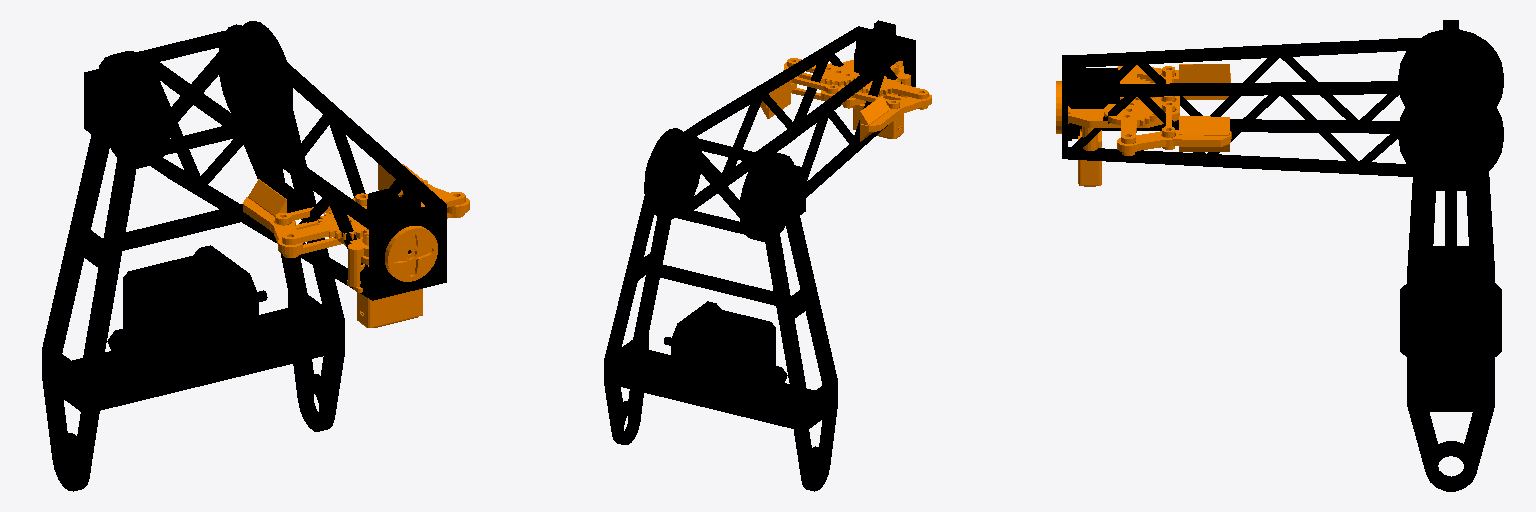
The robot description file, URDF, robot "manipulator_assembly_to_URDF":
<?xml version="1.0" encoding="utf-8"?>
<!-- This URDF was automatically created by SolidWorks to URDF Exporter! Originally created by [author] ([email redacted]) 
     Commit Version: 1.6.0-4-g7f85cfe  Build Version: 1.6.7995.38578
     For more information, please see http://wiki.ros.org/sw_urdf_exporter -->
<robot
  name="manipulator_assembly_to_URDF">
  <link
    name="base_link">
    <inertial>
      <origin
        xyz="0.078917 0.036505 0.00014694"
        rpy="0 0 0" />
      <mass
        value="0.80306" />
      <inertia
        ixx="0.00058252"
        ixy="5.9124E-06"
        ixz="2.2276E-06"
        iyy="0.0012075"
        iyz="3.7681E-07"
        izz="0.0015885" />
    </inertial>
    <visual>
      <origin
        xyz="0 0 0"
        rpy="0 0 0" />
      <geometry>
        <mesh
          filename="package://manipulator_assembly_to_URDF/meshes/base_link.STL" />
      </geometry>
      <material
        name="">
        <color
          rgba="1 0.54902 0 1" />
      </material>
    </visual>
    <collision>
      <origin
        xyz="0 0 0"
        rpy="0 0 0" />
      <geometry>
        <mesh
          filename="package://manipulator_assembly_to_URDF/meshes/base_link.STL" />
      </geometry>
    </collision>
  </link>
  <link
    name="link_1">
    <inertial>
      <origin
        xyz="0.0058496 4.5029E-05 0.029826"
        rpy="0 0 0" />
      <mass
        value="1.2963" />
      <inertia
        ixx="0.00036464"
        ixy="6.1082E-07"
        ixz="5.4471E-06"
        iyy="0.00057711"
        iyz="4.4643E-07"
        izz="0.0006064" />
    </inertial>
    <visual>
      <origin
        xyz="0 0 0"
        rpy="0 0 0" />
      <geometry>
        <mesh
          filename="package://manipulator_assembly_to_URDF/meshes/link_1.STL" />
      </geometry>
      <material
        name="">
        <color
          rgba="0.64706 0.61961 0.58824 1" />
      </material>
    </visual>
    <collision>
      <origin
        xyz="0 0 0"
        rpy="0 0 0" />
      <geometry>
        <mesh
          filename="package://manipulator_assembly_to_URDF/meshes/link_1.STL" />
      </geometry>
    </collision>
  </link>
  <joint
    name="joint_1"
    type="continuous">
    <origin
      xyz="0 0 0"
      rpy="0 0 0" />
    <parent
      link="base_link" />
    <child
      link="link_1" />
    <axis
      xyz="0 0 1" />
  </joint>
  <link
    name="link_2">
    <inertial>
      <origin
        xyz="0.062469 -0.0002125 -0.0043839"
        rpy="0 0 0" />
      <mass
        value="0.65668" />
      <inertia
        ixx="0.00030256"
        ixy="-4.5238E-08"
        ixz="4.7027E-05"
        iyy="0.00050509"
        iyz="-5.3372E-08"
        izz="0.00039508" />
    </inertial>
    <visual>
      <origin
        xyz="0 0 0"
        rpy="0 0 0" />
      <geometry>
        <mesh
          filename="package://manipulator_assembly_to_URDF/meshes/link_2.STL" />
      </geometry>
      <material
        name="">
        <color
          rgba="0 0 0 1" />
      </material>
    </visual>
    <collision>
      <origin
        xyz="0 0 0"
        rpy="0 0 0" />
      <geometry>
        <mesh
          filename="package://manipulator_assembly_to_URDF/meshes/link_2.STL" />
      </geometry>
    </collision>
  </link>
  <joint
    name="joint_2"
    type="continuous">
    <origin
      xyz="-0.00025 -0.0015763 0.030821"
      rpy="-3.1416 -1.5702 0" />
    <parent
      link="link_1" />
    <child
      link="link_2" />
    <axis
      xyz="0 0 1" />
  </joint>
  <link
    name="link_3">
    <inertial>
      <origin
        xyz="0.059564 -0.00080149 -0.0015856"
        rpy="0 0 0" />
      <mass
        value="0.090555" />
      <inertia
        ixx="8.4245E-05"
        ixy="8.3873E-07"
        ixz="-6.3077E-06"
        iyy="0.00043561"
        iyz="-6.7312E-07"
        izz="0.00039329" />
    </inertial>
    <visual>
      <origin
        xyz="0 0 0"
        rpy="0 0 0" />
      <geometry>
        <mesh
          filename="package://manipulator_assembly_to_URDF/meshes/link_3.STL" />
      </geometry>
      <material
        name="">
        <color
          rgba="0 0 0 1" />
      </material>
    </visual>
    <collision>
      <origin
        xyz="0 0 0"
        rpy="0 0 0" />
      <geometry>
        <mesh
          filename="package://manipulator_assembly_to_URDF/meshes/link_3.STL" />
      </geometry>
    </collision>
  </link>
  <joint
    name="joint_3"
    type="continuous">
    <origin
      xyz="0.17296 0 0.00014863"
      rpy="0.00058608 0 1.5708" />
    <parent
      link="link_2" />
    <child
      link="link_3" />
    <axis
      xyz="0 0 1" />
  </joint>
  <link
    name="gripper">
    <inertial>
      <origin
        xyz="-0.0013753 0.011708 0.021046"
        rpy="0 0 0" />
      <mass
        value="0.022996" />
      <inertia
        ixx="4.5836E-06"
        ixy="-3.611E-09"
        ixz="-4.4626E-09"
        iyy="5.9744E-06"
        iyz="8.7239E-08"
        izz="3.2255E-06" />
    </inertial>
    <visual>
      <origin
        xyz="0 0 0"
        rpy="0 0 0" />
      <geometry>
        <mesh
          filename="package://manipulator_assembly_to_URDF/meshes/gripper.STL" />
      </geometry>
      <material
        name="">
        <color
          rgba="1 0.54902 0 1" />
      </material>
    </visual>
    <collision>
      <origin
        xyz="0 0 0"
        rpy="0 0 0" />
      <geometry>
        <mesh
          filename="package://manipulator_assembly_to_URDF/meshes/gripper.STL" />
      </geometry>
    </collision>
  </link>
  <joint
    name="joint_4"
    type="continuous">
    <origin
      xyz="0.2032 0 0"
      rpy="0 -1.5708 0" />
    <parent
      link="link_3" />
    <child
      link="gripper" />
    <axis
      xyz="0 0 1" />
  </joint>
  <link
    name="left_finger">
    <inertial>
      <origin
        xyz="0.00085621 -0.0093356 -0.017664"
        rpy="0 0 0" />
      <mass
        value="0.006945" />
      <inertia
        ixx="1.3994E-06"
        ixy="9.5056E-14"
        ixz="-4.0439E-14"
        iyy="9.693E-07"
        iyz="-1.2261E-08"
        izz="5.2145E-07" />
    </inertial>
    <visual>
      <origin
        xyz="0 0 0"
        rpy="0 0 0" />
      <geometry>
        <mesh
          filename="package://manipulator_assembly_to_URDF/meshes/left_finger.STL" />
      </geometry>
      <material
        name="">
        <color
          rgba="1 0.54902 0 1" />
      </material>
    </visual>
    <collision>
      <origin
        xyz="0 0 0"
        rpy="0 0 0" />
      <geometry>
        <mesh
          filename="package://manipulator_assembly_to_URDF/meshes/left_finger.STL" />
      </geometry>
    </collision>
  </link>
  <joint
    name="lf_joint"
    type="prismatic">
    <origin
      xyz="0.032331 0 0.076026"
      rpy="0.35084 0 -1.5708" />
    <parent
      link="gripper" />
    <child
      link="left_finger" />
    <axis
      xyz="0 0 -1" />
    <limit
      lower="0"
      upper="0"
      effort="0"
      velocity="0" />
  </joint>
  <link
    name="right_finger">
    <inertial>
      <origin
        xyz="0.00086131 0.0093423 -0.017746"
        rpy="0 0 0" />
      <mass
        value="0.0069584" />
      <inertia
        ixx="1.3949E-06"
        ixy="-9.6372E-14"
        ixz="-3.7094E-14"
        iyy="9.6462E-07"
        iyz="1.1877E-08"
        izz="5.2161E-07" />
    </inertial>
    <visual>
      <origin
        xyz="0 0 0"
        rpy="0 0 0" />
      <geometry>
        <mesh
          filename="package://manipulator_assembly_to_URDF/meshes/right_finger.STL" />
      </geometry>
      <material
        name="">
        <color
          rgba="1 0.54902 0 1" />
      </material>
    </visual>
    <collision>
      <origin
        xyz="0 0 0"
        rpy="0 0 0" />
      <geometry>
        <mesh
          filename="package://manipulator_assembly_to_URDF/meshes/right_finger.STL" />
      </geometry>
    </collision>
  </link>
  <joint
    name="rf_joint"
    type="prismatic">
    <origin
      xyz="-0.030888 0 0.075969"
      rpy="-0.36176 0 -1.5708" />
    <parent
      link="gripper" />
    <child
      link="right_finger" />
    <axis
      xyz="0 0 -1" />
    <limit
      lower="0"
      upper="0"
      effort="0"
      velocity="0" />
  </joint>
</robot>

--- Render facts (derived) ---
3 views of the same robot in one strip: view 1: azimuth 30°, elevation 25°; view 2: azimuth 150°, elevation 25°; view 3: azimuth 270°, elevation 25° (orthographic).
Model manipulator_assembly_to_URDF with 7 links and 6 joints (4 continuous, 2 prismatic), rooted at base_link, posed all joints at 0.
Visible links, largest first — view 1: link_2, link_3, gripper, right_finger, left_finger; view 2: link_2, link_3, right_finger, left_finger, gripper; view 3: link_3, link_2, left_finger, gripper, right_finger.
Boxes of the visible links, x1,y1,x2,y2 form: link_2: (42, 57, 344, 491); link_3: (84, 21, 446, 300); gripper: (326, 198, 437, 327); right_finger: (243, 179, 368, 257); left_finger: (355, 164, 469, 218); link_2: (604, 160, 837, 491); link_3: (644, 20, 915, 241); right_finger: (843, 75, 931, 141); left_finger: (760, 58, 858, 118); gripper: (820, 60, 910, 138); link_3: (1062, 20, 1503, 185); link_2: (1400, 109, 1501, 491); left_finger: (1104, 99, 1231, 155); gripper: (1056, 81, 1179, 186); right_finger: (1117, 64, 1230, 101).
Bounding box of the posed robot: 0.1365 × 0.2304 × 0.2131 m (x, y, z).
Meshes: 7 distinct files referenced, 5 mesh visuals loaded (5 binary STL); not drawn: 2 (reference not matched to a file when rendering).